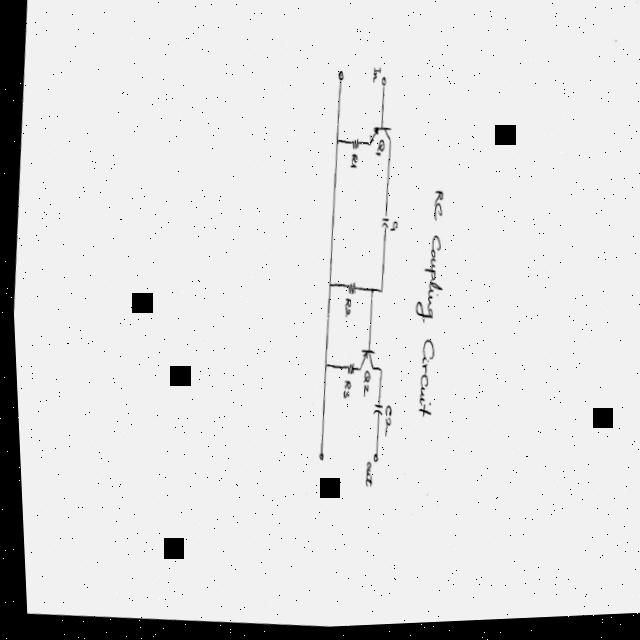capacitor: (368, 403, 380, 419), (378, 216, 387, 235)
junction: (333, 140, 338, 146), (325, 284, 329, 291), (375, 369, 379, 376), (321, 363, 324, 371), (368, 289, 371, 296), (377, 289, 380, 296)
resistor: (343, 283, 354, 298), (341, 364, 351, 378), (348, 140, 359, 152)
terminal: (337, 72, 343, 83), (368, 454, 374, 465), (380, 78, 385, 91), (314, 454, 319, 463)
text: (406, 191, 445, 420), (379, 406, 388, 440), (358, 372, 367, 399), (360, 463, 369, 489), (373, 140, 384, 160), (338, 382, 347, 401), (341, 299, 349, 320), (371, 68, 380, 86), (347, 155, 356, 172), (387, 222, 396, 235)
transistor: (367, 127, 391, 151), (355, 350, 373, 375)
